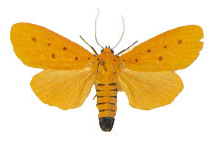Agape chloropyga: (8, 8, 204, 132)
moth: (9, 8, 205, 132)
